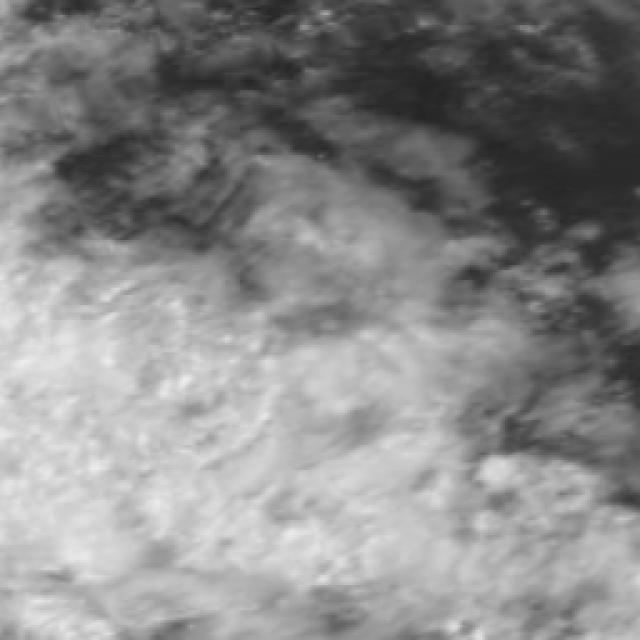CB: (8, 315, 186, 556)
